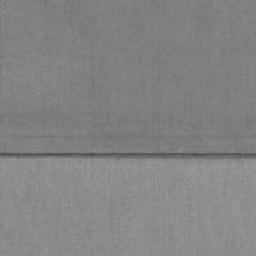Welding line: (0, 151, 256, 160)
